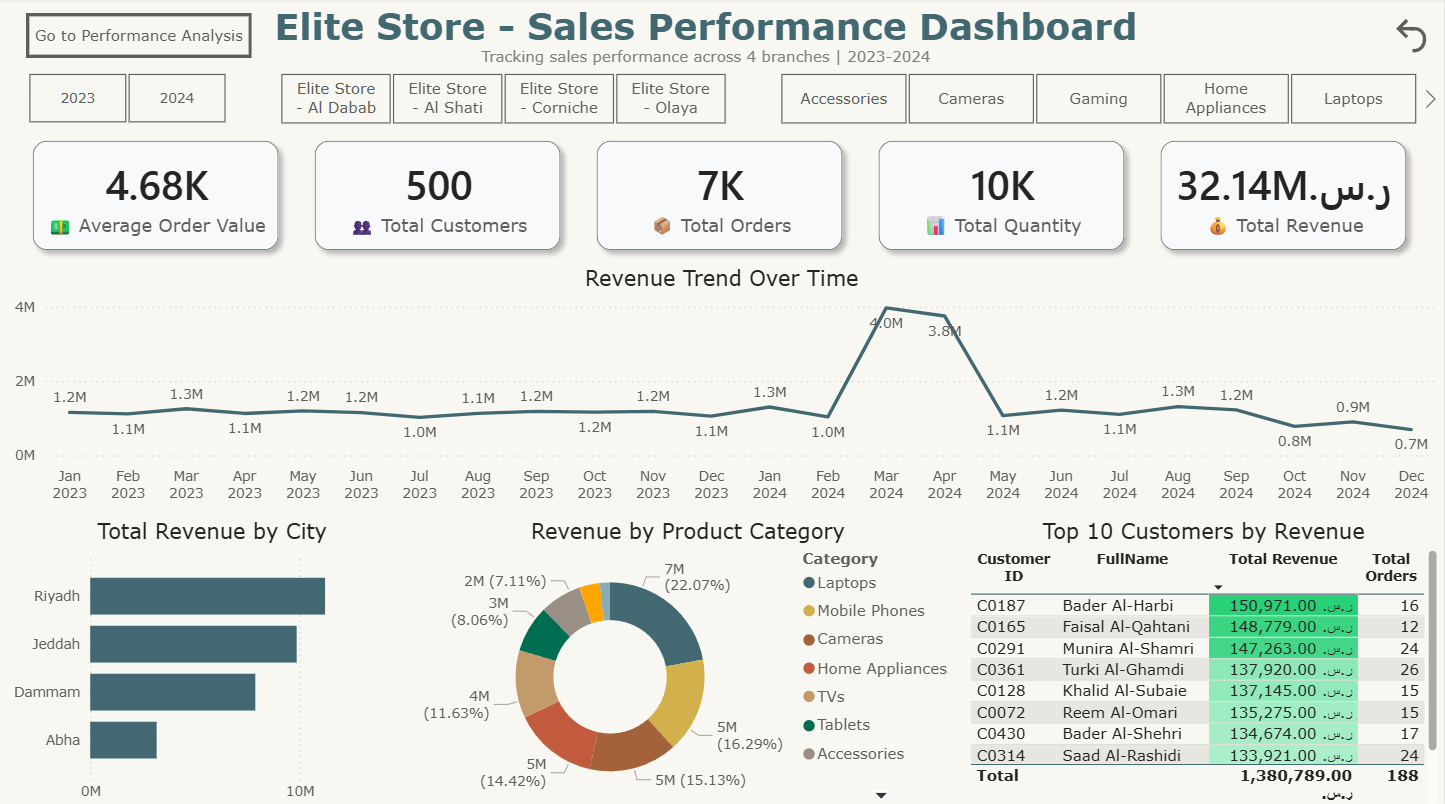

The page's visual inventory and layout, read from the dashboard file:
{"tool":"powerbi","page":{"name":"Page 1","canvas":[1280,720],"ordinal":0},"visuals":[{"type":"cardVisual","title":"ghgfhgf","fields":{"Data":["Sales.Average Order Value","Sales.Total Customers","Sales.Total Orders","Sales.Total Quantity","Sales.Total Revenue"]},"box":[0,97.3,1280,155.6],"z":0},{"type":"lineChart","title":"Revenue Trend Over Time","fields":{"Y":["Sales.Total Revenue"],"Category":["DateTable.MonthYear"]},"box":[0,236.4,1280,217.9],"z":1000},{"type":"clusteredBarChart","fields":{"Y":["Sales.Total Revenue"],"Category":["Stores.City","Stores.StoreName"]},"box":[0,461,376.4,259.7],"z":2000},{"type":"donutChart","title":"Revenue by Product Category","fields":{"Category":["Products.Category"],"Y":["Sales.Total Revenue"]},"box":[365.7,461,489.2,258.7],"z":3000},{"type":"tableEx","title":"Top 10 Customers by Revenue","fields":{"Values":["Customers.CustomerID","Customers.FullName","Sales.Total Revenue","Sales.Total Orders"]},"box":[855,461,425,258.7],"z":4000},{"type":"slicer","fields":{"Values":["DateTable.Year"]},"box":[0,60.3,223.7,57.4],"z":5000},{"type":"slicer","fields":{"Values":["Stores.StoreName"]},"box":[223.7,60.3,443.5,57.4],"z":6000},{"type":"slicer","title":"251","fields":{"Values":["Products.Category"]},"box":[667.2,60.3,612.8,57.4],"z":7000},{"type":"textbox","box":[0,0,1252,67.4],"z":8000},{"type":"actionButton","box":[23.1,13.3,200.4,39.9],"z":9000},{"type":"actionButton","box":[1231.6,13.3,40.8,39.9],"z":9001}]}

Visuals, with their boxes in screenshot pixels (x1, y1, x2, y2), scaled from the page's 1280x720 canvas onto the 1445x804 screenshot:
"ghgfhgf" cardVisual: select_region(0, 109, 1444, 282)
"Revenue Trend Over Time" lineChart: select_region(0, 264, 1444, 507)
clusteredBarChart - Sales.Total Revenue x Stores.City: select_region(0, 515, 425, 803)
"Revenue by Product Category" donutChart: select_region(413, 515, 965, 803)
"Top 10 Customers by Revenue" tableEx: select_region(965, 515, 1444, 803)
slicer - DateTable.Year: select_region(0, 67, 253, 131)
slicer - Stores.StoreName: select_region(253, 67, 753, 131)
"251" slicer: select_region(753, 67, 1444, 131)
textbox: select_region(0, 0, 1413, 75)
actionButton: select_region(26, 15, 252, 59)
actionButton: select_region(1390, 15, 1436, 59)
